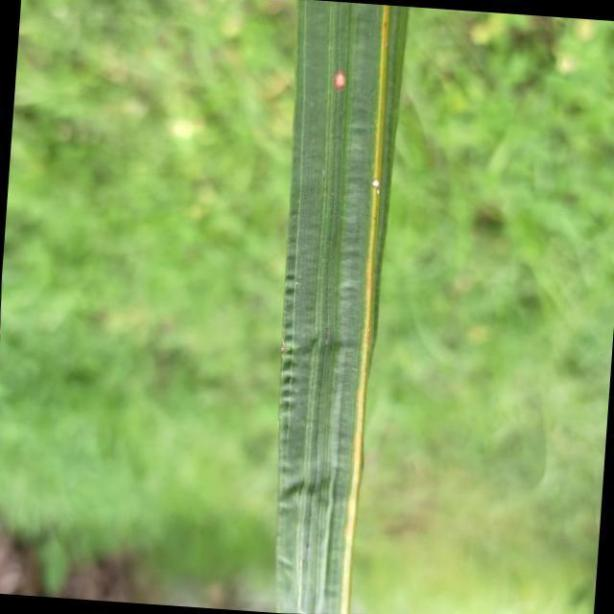Boron: (275, 0, 413, 614)
